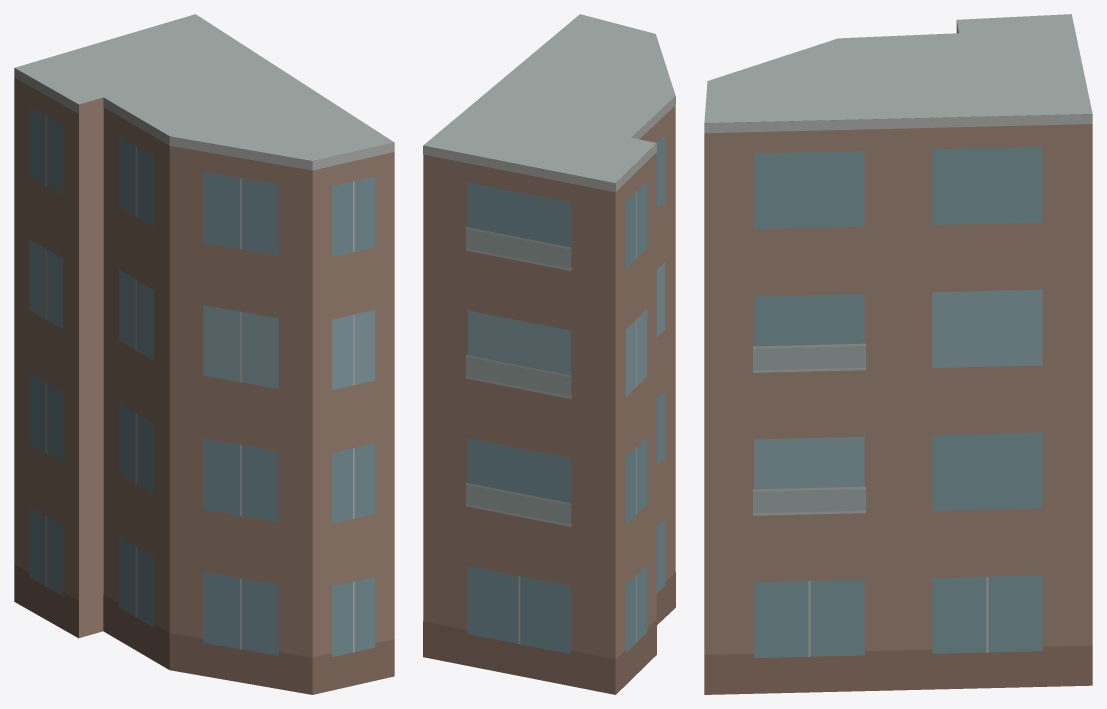
The model's file is survey-upis-32465148.glb.
3 views of the same model, side by side, from view 1: azimuth 30°, elevation 25°; view 2: azimuth 150°, elevation 25°; view 3: azimuth 270°, elevation 25° (orthographic). The views are drawn at different scales.
Visible parts, largest first — view 1: survey-upis-32465148.tmp; view 2: survey-upis-32465148.tmp; view 3: survey-upis-32465148.tmp.
Part boxes in pixels (bbox=[...]): survey-upis-32465148.tmp: bbox=[14, 14, 394, 694]; survey-upis-32465148.tmp: bbox=[423, 14, 675, 694]; survey-upis-32465148.tmp: bbox=[704, 14, 1092, 694].
Size of the model in its own units: 5.62 by 13.7 by 8.45.
